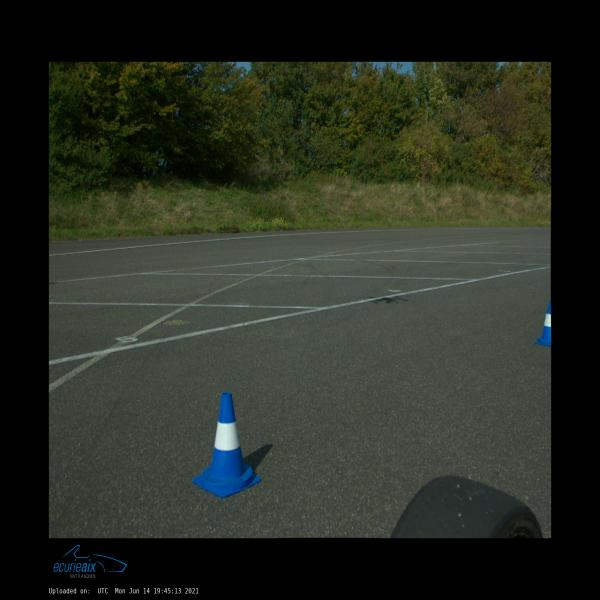blue_cone: (193, 392, 262, 498), (535, 301, 551, 346)
